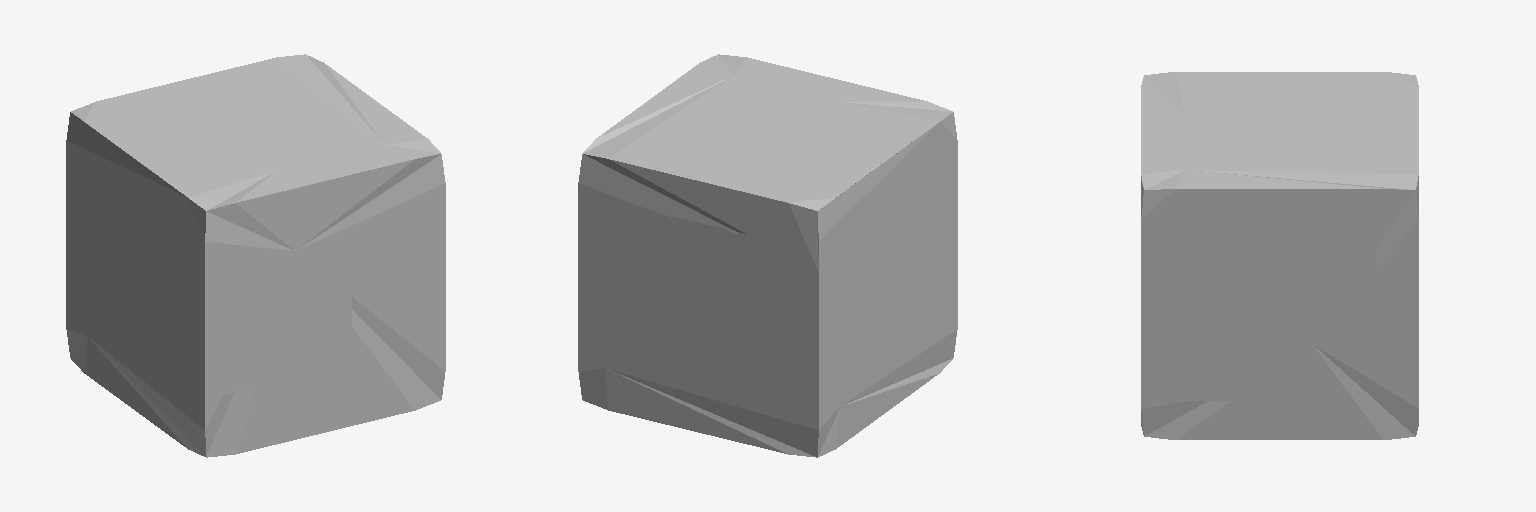
Rendered from dice01.obj.
The picture shows the model from 3 angles: view 1: azimuth 30°, elevation 25°; view 2: azimuth 150°, elevation 25°; view 3: azimuth 270°, elevation 25°; orthographic projection.
Parts seen in each view (by area): view 1: Cube_Cube.001; view 2: Cube_Cube.001; view 3: Cube_Cube.001.
Part boxes in pixels (x1,y1,x2,y2): Cube_Cube.001: (66,54,445,457); Cube_Cube.001: (578,54,957,457); Cube_Cube.001: (1141,72,1418,439).
Bounding box in the file's own units: 0.008 × 0.008 × 0.008.